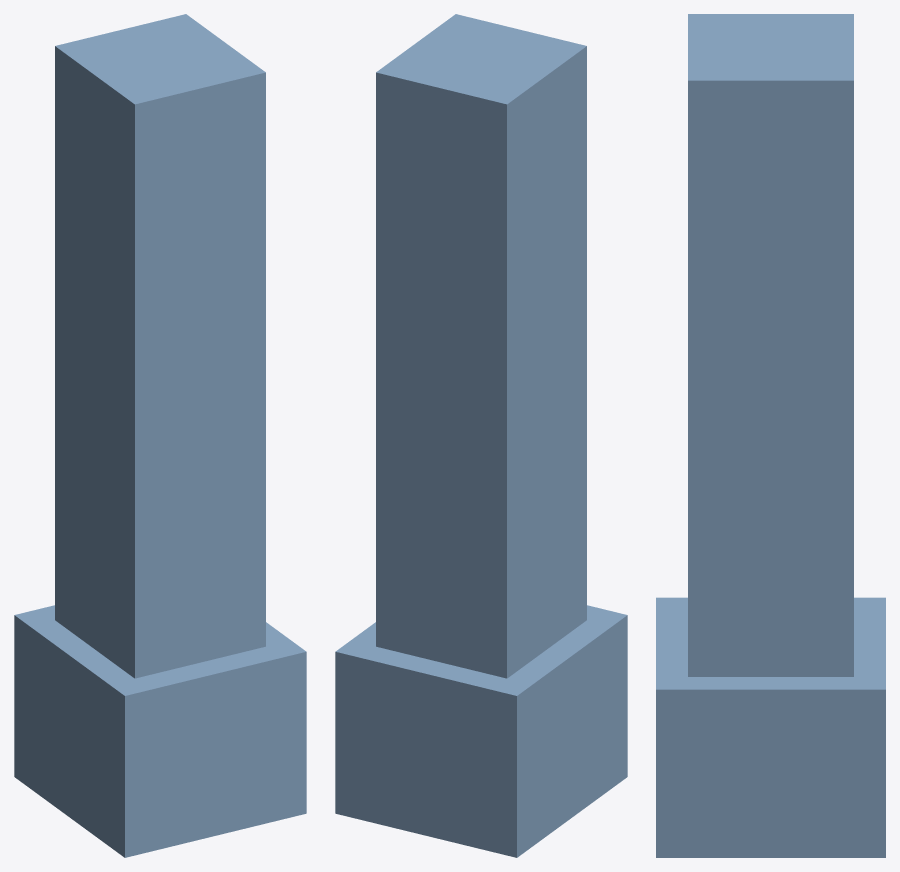
File: tower_podium.glb
3 renders of one model, left to right at view 1: azimuth 30°, elevation 25°; view 2: azimuth 150°, elevation 25°; view 3: azimuth 270°, elevation 25°, orthographic. The views are drawn at different scales.
Visible parts, largest first — view 1: tower_podium; view 2: tower_podium; view 3: tower_podium.
Part boxes in pixels (x1,y1,x2,y2): tower_podium: (14, 14, 306, 857); tower_podium: (335, 14, 627, 857); tower_podium: (656, 14, 885, 857).
Bounding box in the file's own units: 0.594 × 2.3 × 0.6264.
